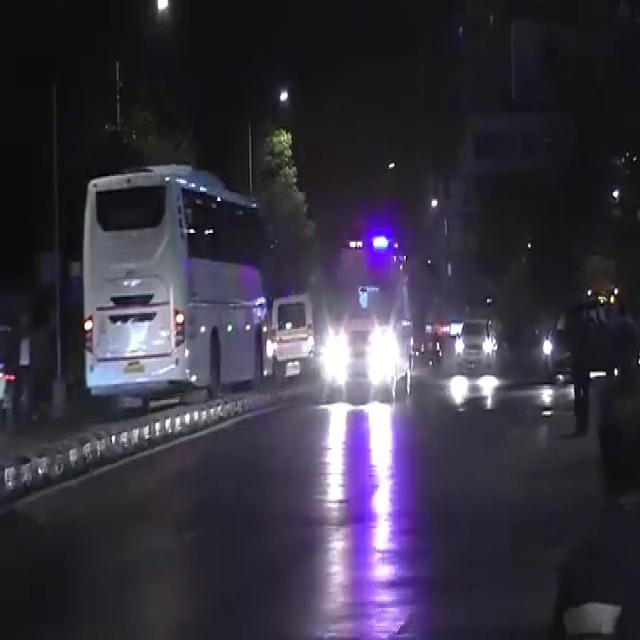ambulance: (303, 212, 441, 405)
